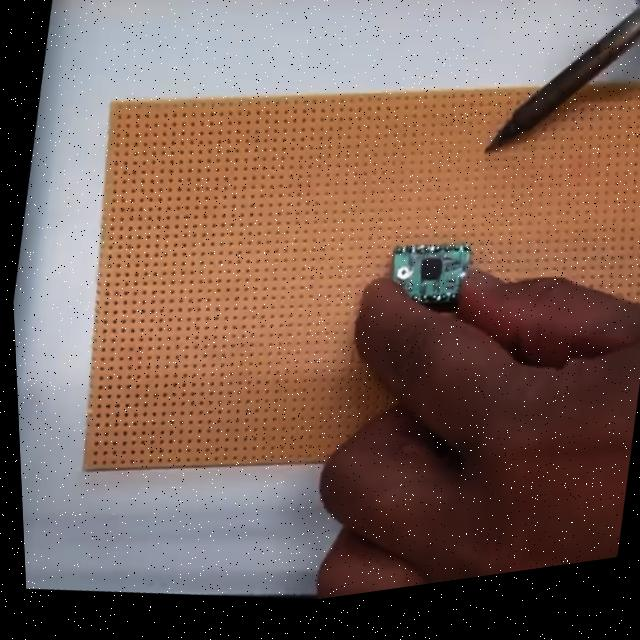Chip: (379, 227, 480, 316)
soldering_iron: (458, 0, 640, 203)
